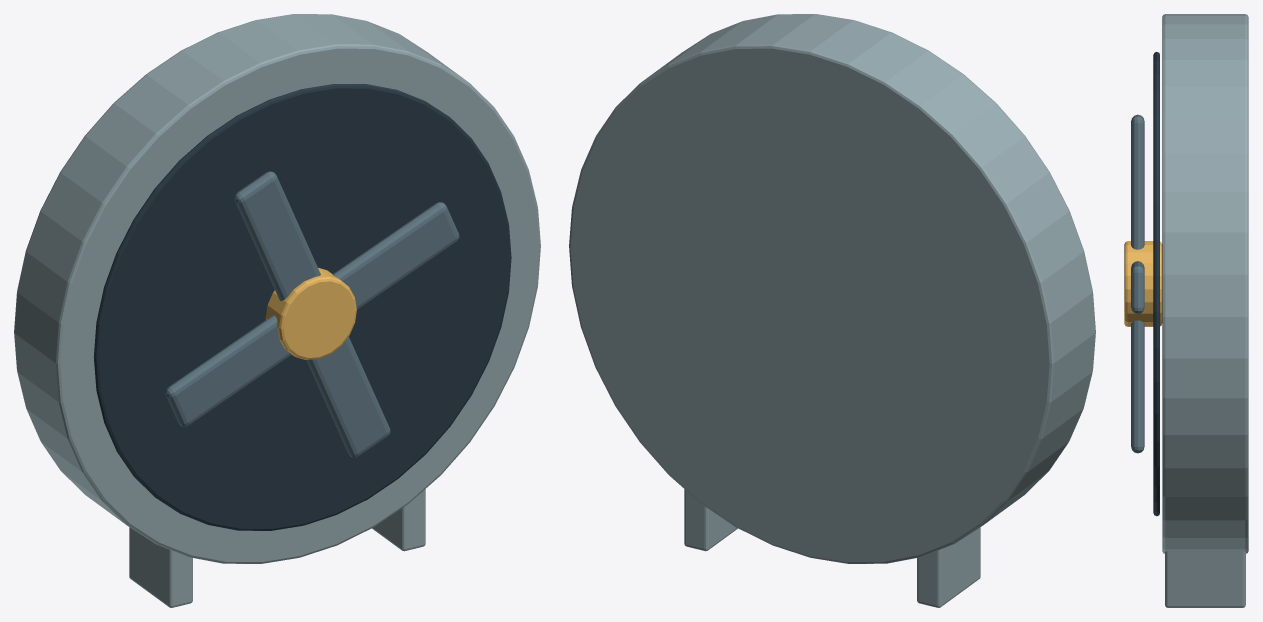
File: SM_Fan.fbx
3 views of the same model, side by side, from view 1: azimuth 30°, elevation 25°; view 2: azimuth 150°, elevation 25°; view 3: azimuth 270°, elevation 25° (orthographic). The views are drawn at different scales.
Visible parts, largest first — view 1: SM_Fan; view 2: SM_Fan; view 3: SM_Fan.
Boxes of the visible parts, bbox=[...] form: SM_Fan: bbox=[14, 14, 540, 607]; SM_Fan: bbox=[569, 14, 1095, 607]; SM_Fan: bbox=[1124, 14, 1248, 607].
Bounding box in the file's own units: 200 × 46 × 208.
